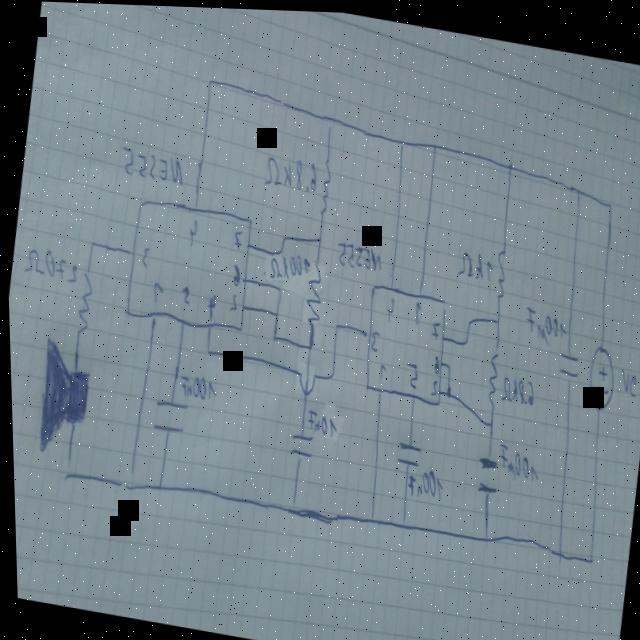capacitor: (148, 394, 189, 438), (470, 450, 500, 494), (285, 427, 314, 460), (392, 437, 422, 467), (555, 345, 580, 377)
crossover: (294, 364, 317, 396)
junction: (54, 450, 76, 491), (116, 458, 138, 497), (281, 487, 300, 521), (83, 232, 99, 259), (393, 507, 409, 533), (394, 128, 409, 155), (149, 474, 164, 498), (199, 339, 213, 364), (324, 108, 338, 132), (362, 506, 376, 530), (265, 324, 281, 345), (203, 68, 217, 91), (488, 308, 503, 328), (301, 336, 316, 356), (571, 179, 584, 202), (270, 281, 284, 302), (477, 525, 489, 548), (502, 154, 515, 175), (427, 134, 440, 155), (582, 544, 595, 565), (311, 229, 324, 249), (440, 381, 453, 400), (458, 328, 471, 346), (551, 543, 562, 564), (461, 311, 473, 330), (278, 227, 290, 246), (268, 304, 280, 321), (274, 241, 285, 259), (604, 192, 614, 211), (325, 363, 335, 380), (484, 412, 494, 429), (442, 356, 451, 374), (331, 317, 340, 332)
resistor: (299, 251, 327, 331), (72, 267, 95, 343), (489, 234, 512, 304), (482, 340, 503, 409), (316, 151, 335, 216)
source: (581, 336, 618, 410)
text: (118, 143, 186, 187), (260, 150, 319, 193), (21, 242, 80, 284), (519, 300, 569, 346), (492, 437, 540, 479), (333, 237, 384, 272), (402, 461, 443, 500), (266, 249, 310, 283), (454, 244, 495, 280), (175, 370, 217, 402), (497, 371, 536, 405), (303, 406, 339, 437), (615, 361, 638, 394), (401, 357, 418, 389), (148, 278, 165, 308), (184, 216, 199, 247), (177, 281, 192, 312), (230, 223, 244, 252), (229, 260, 243, 289), (203, 291, 217, 320), (383, 291, 395, 322), (138, 244, 151, 268), (367, 327, 379, 352), (375, 358, 387, 382), (428, 317, 441, 339), (411, 296, 421, 323), (429, 350, 440, 374), (227, 291, 237, 310), (428, 376, 436, 395)
